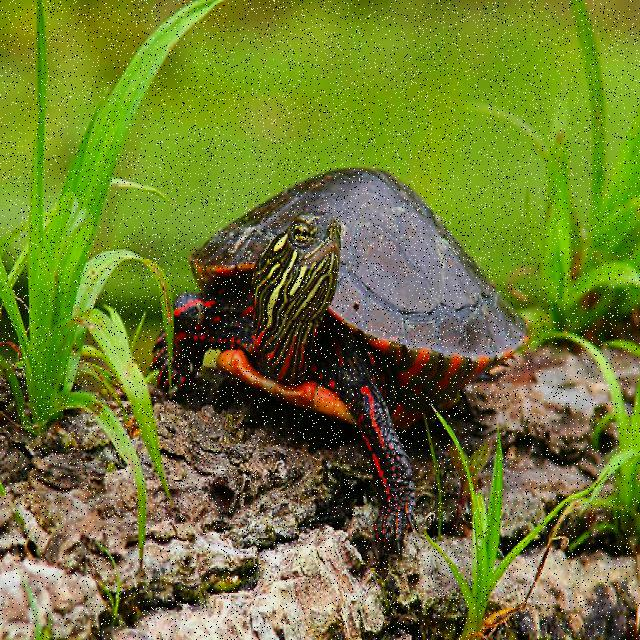tortoise: (157, 167, 526, 515)
